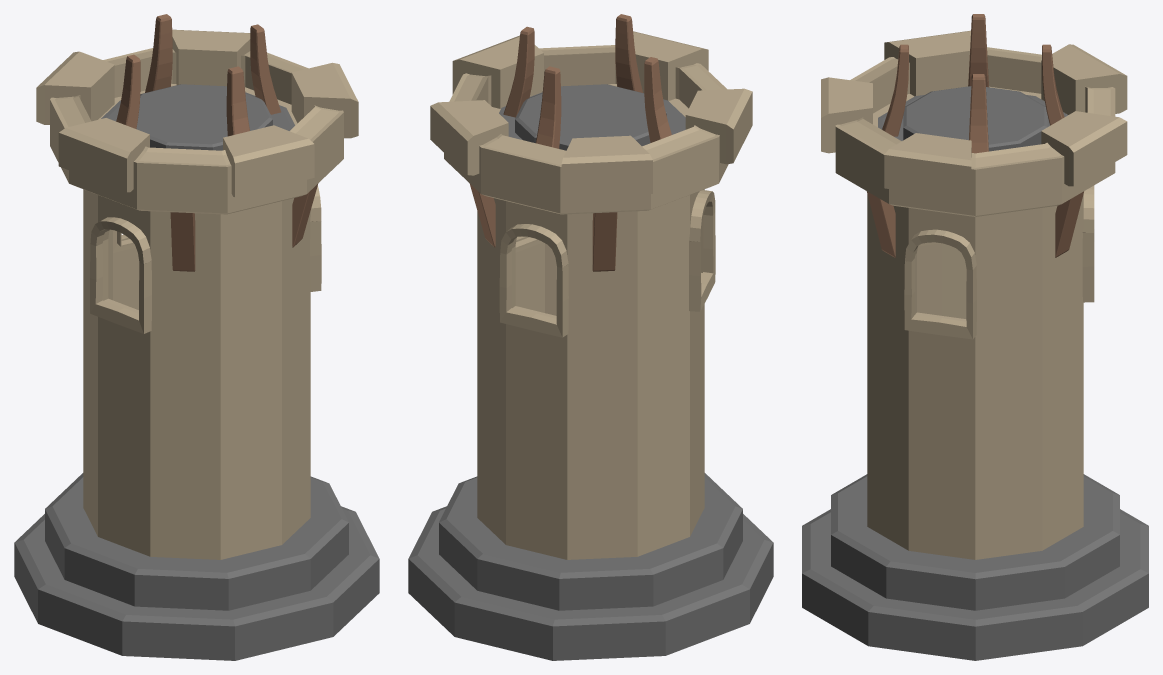
File: tower_Attack.fbx
3 views of the same model, side by side, from view 1: azimuth 30°, elevation 25°; view 2: azimuth 150°, elevation 25°; view 3: azimuth 270°, elevation 25° (orthographic).
Parts seen in each view (by area): view 1: Cylinder.001, Plane.002, Plane.004, Plane.003, Plane.001, Plane.005, Cube.034, Cube.009, Cube.012, Cube.010, Cube.011, Plane.006; view 2: Cylinder.001, Plane.002, Plane.003, Plane.004, Plane.001, Plane.005, Cube.034, Cube.009, Cube.012, Cube.011, Cube.010, Plane.006; view 3: Cylinder.001, Plane.002, Plane.004, Plane.003, Plane.001, Plane.005, Cube.034, Cube.012, Cube.010, Cube.011, Cube.009.
Boxes of the visible parts, <box> form: Cylinder.001: <box>83,186,321,559</box>; Plane.002: <box>14,506,379,660</box>; Plane.004: <box>36,29,358,196</box>; Plane.003: <box>45,473,348,610</box>; Plane.001: <box>50,48,343,214</box>; Plane.005: <box>136,84,272,150</box>; Cube.034: <box>170,183,318,271</box>; Cube.009: <box>145,14,172,92</box>; Cube.012: <box>250,24,281,114</box>; Cube.010: <box>226,66,249,136</box>; Cube.011: <box>116,54,140,128</box>; Plane.006: <box>101,92,294,130</box>; Cylinder.001: <box>477,189,715,559</box>; Plane.002: <box>408,506,773,660</box>; Plane.003: <box>439,473,742,610</box>; Plane.004: <box>430,31,752,197</box>; Plane.001: <box>444,45,728,214</box>; Plane.005: <box>515,84,666,150</box>; Cube.034: <box>469,183,617,271</box>; Cube.009: <box>535,66,561,148</box>; Cube.012: <box>503,26,534,117</box>; Cube.011: <box>644,57,671,142</box>; Cube.010: <box>615,14,642,92</box>; Plane.006: <box>499,92,685,139</box>; Cylinder.001: <box>867,185,1094,559</box>; Plane.002: <box>802,509,1148,660</box>; Plane.004: <box>821,30,1127,200</box>; Plane.003: <box>831,474,1119,610</box>; Plane.001: <box>835,47,1115,216</box>; Plane.005: <box>903,86,1047,151</box>; Cube.034: <box>867,191,1083,257</box>; Cube.012: <box>969,74,988,153</box>; Cube.010: <box>882,44,908,136</box>; Cube.011: <box>968,14,988,87</box>; Cube.009: <box>1042,44,1064,125</box>.
Size of the model in its own units: 201 by 328 by 191.
